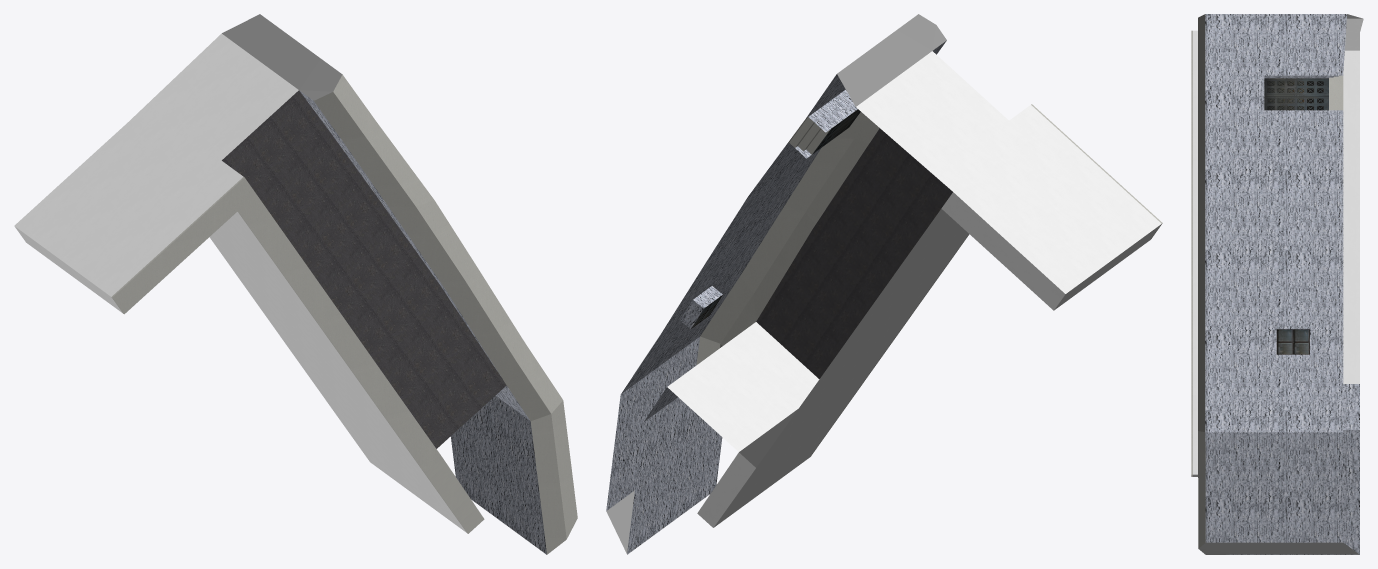
The model's file is Aida_7_2.obj.
3 views of the same model, side by side, from view 1: azimuth 30°, elevation 25°; view 2: azimuth 150°, elevation 25°; view 3: azimuth 270°, elevation 25° (orthographic). The views are drawn at different scales.
Visible parts, largest first — view 1: Aida_7_2, xxx; view 2: Aida_7_2, xxx; view 3: Aida_7_2, xxx.
Boxes of the visible parts, x1,y1,x2,y2 form: Aida_7_2: (14,33,577,554); xxx: (222,14,530,542); Aida_7_2: (606,40,1162,554); xxx: (606,14,946,554); Aida_7_2: (1191,14,1363,554); xxx: (1193,14,1362,554).
Size of the model in its own units: 17.61 by 18.84 by 6.47.
